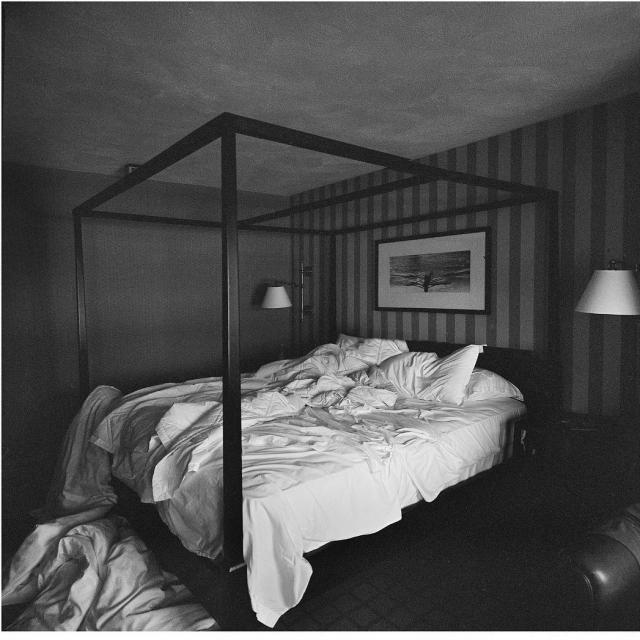bed: (91, 314, 523, 516)
